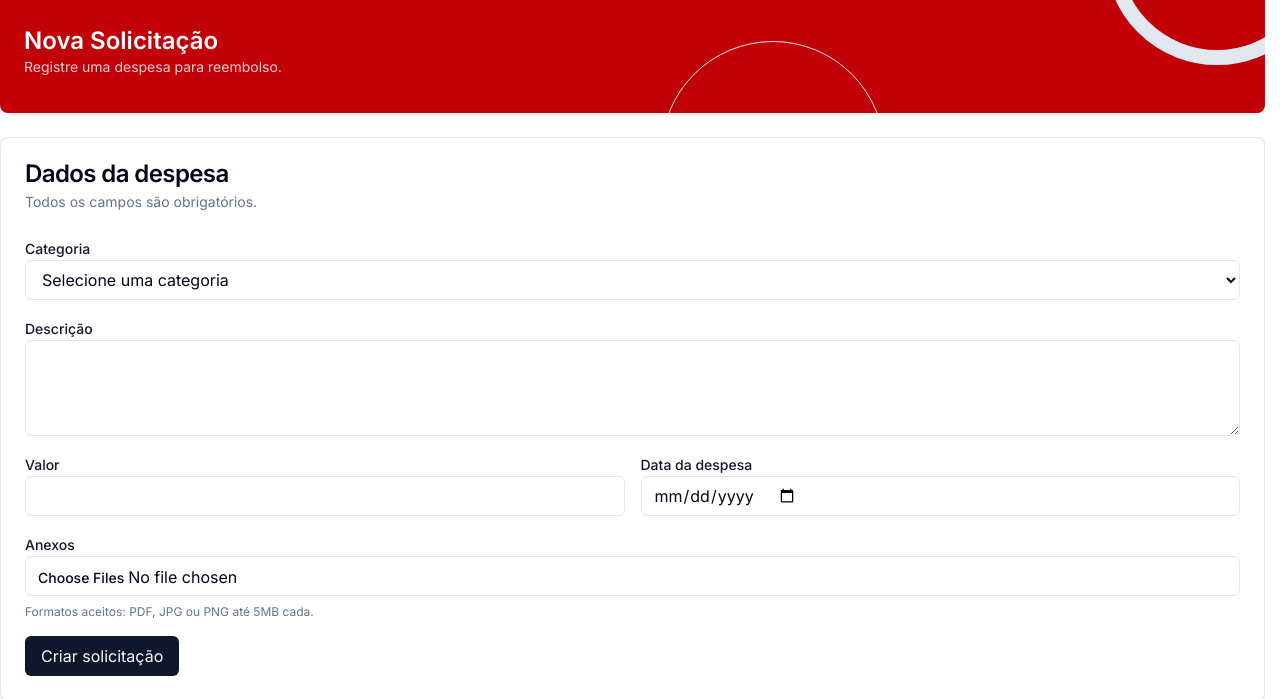
Test: valida campos obrigatorios
(page scrolled)
Expected: the heading "Dados da despesa" is shown, [25, 159, 229, 188]
Click the button "Criar solicitação". click: (102,656)
box: [25, 636, 179, 676]
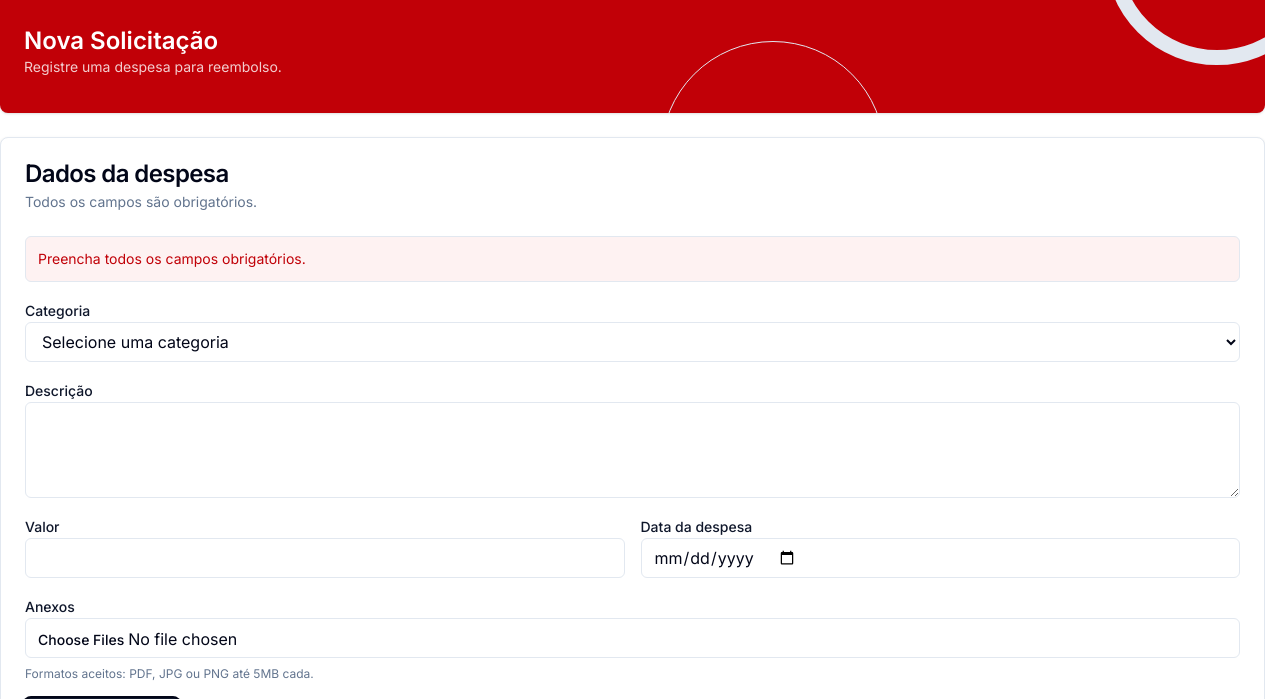
Result: the text "Preencha todos os campos obrigatórios." is shown at [25, 236, 1240, 282]
